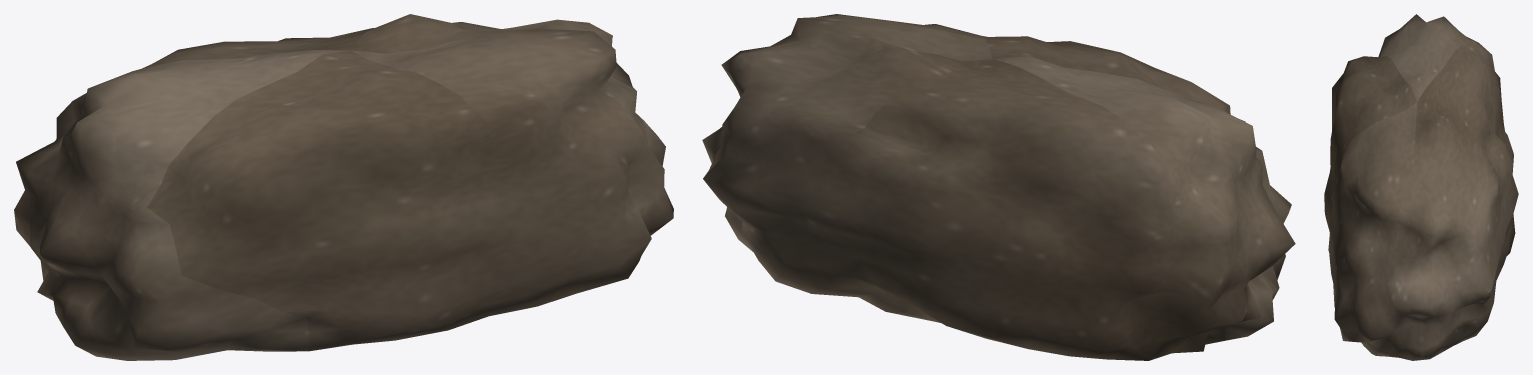
File: NaturalRock_10_LongRidge.fbx
3 renders of one model, left to right at view 1: azimuth 30°, elevation 25°; view 2: azimuth 150°, elevation 25°; view 3: azimuth 270°, elevation 25°, orthographic. The views are drawn at different scales.
Parts seen in each view (by area): view 1: Rock_Main.008; view 2: Rock_Main.008; view 3: Rock_Main.008.
Part boxes in pixels (<box>): Rock_Main.008: <box>14,14,673,360</box>; Rock_Main.008: <box>702,14,1295,360</box>; Rock_Main.008: <box>1324,14,1518,360</box>.
Bounding box in the file's own units: 3.2 × 1.36 × 1.28.
Materials: 1 (1 with a texture image).
